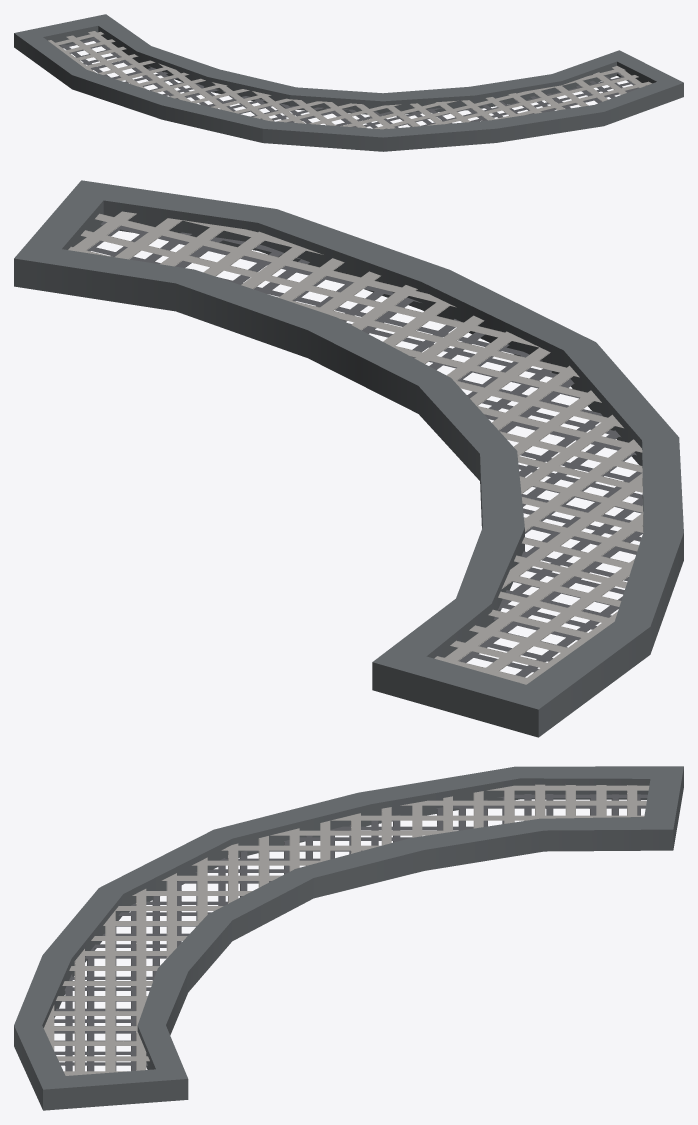
Rendered from LightGreyMetalFloorMediumCurvedPlatform1.fbx.
3 renders of one model, top to bottom at view 1: azimuth 30°, elevation 25°; view 2: azimuth 150°, elevation 25°; view 3: azimuth 270°, elevation 25°, orthographic. The views are drawn at different scales.
Visible parts, largest first — view 1: LightGreyMetalFloorMediumCurvedPlatform1; view 2: LightGreyMetalFloorMediumCurvedPlatform1; view 3: LightGreyMetalFloorMediumCurvedPlatform1.
Boxes of the visible parts, x1=… form: LightGreyMetalFloorMediumCurvedPlatform1: x1=14, y1=14, x2=683, y2=151; LightGreyMetalFloorMediumCurvedPlatform1: x1=14, y1=180, x2=683, y2=737; LightGreyMetalFloorMediumCurvedPlatform1: x1=14, y1=766, x2=683, y2=1110.
Size of the model in its own units: 905 by 27.41 by 793.
3 materials, 2 textured.
